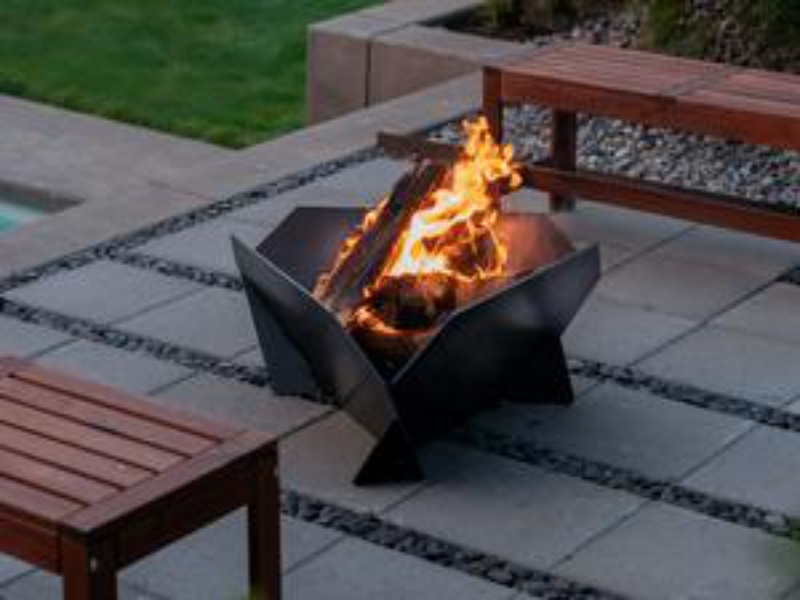fire: (444, 120, 505, 274), (400, 199, 445, 274)
